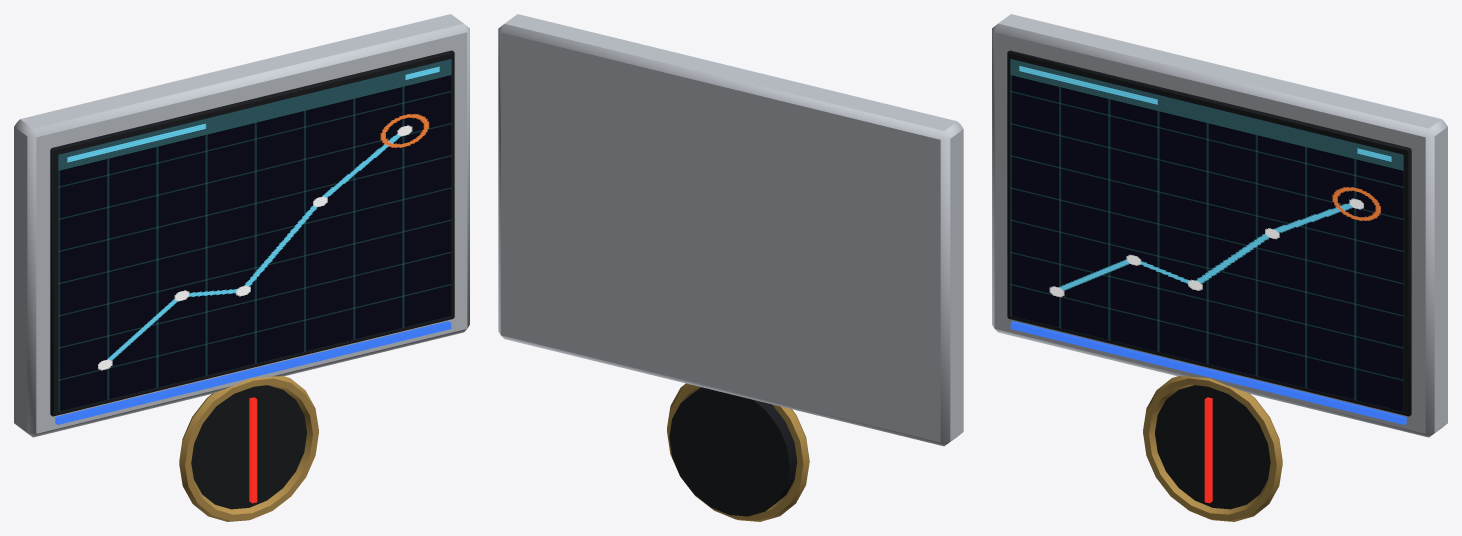
File: display_heading_display.glb
3 views of the same model, side by side, from view 1: azimuth 30°, elevation 25°; view 2: azimuth 150°, elevation 25°; view 3: azimuth 330°, elevation 25° (orthographic). The views are drawn at different scales.
Parts seen in each view (by area): view 1: display_heading_display; view 2: display_heading_display; view 3: display_heading_display.
Boxes of the visible parts, x1=… form: display_heading_display: x1=14, y1=14, x2=469, y2=521; display_heading_display: x1=498, y1=14, x2=963, y2=521; display_heading_display: x1=992, y1=14, x2=1447, y2=521.
Size of the model in its own units: 0.9 by 0.862 by 0.081.
6 materials, 1 textured.
